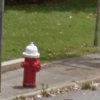Hydrant: (16, 35, 44, 100)
